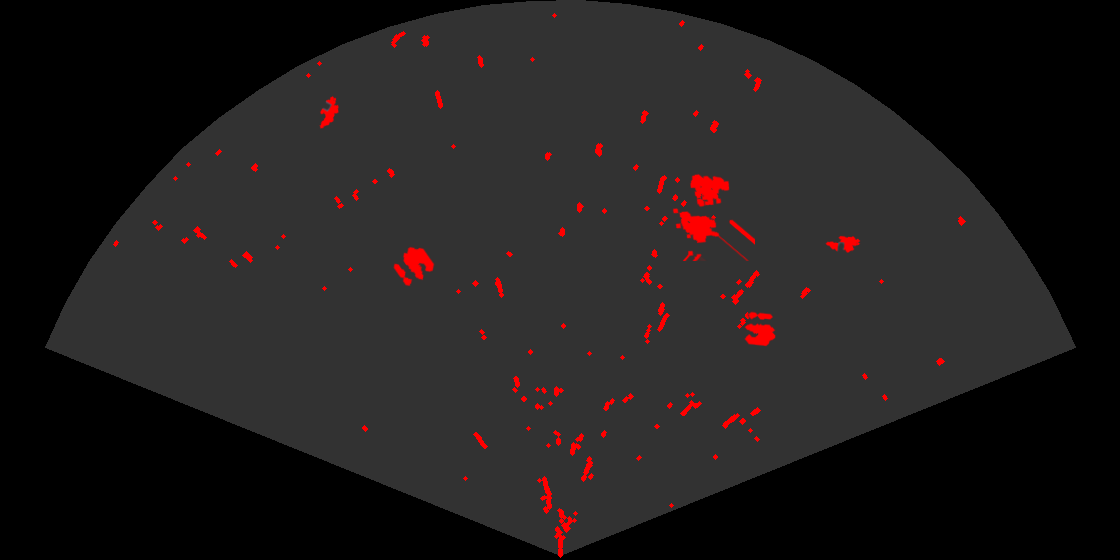AUV: (318, 94, 341, 130), (824, 234, 862, 254)
ball: (392, 245, 436, 288), (743, 310, 777, 348)
cage: (671, 172, 755, 261)
